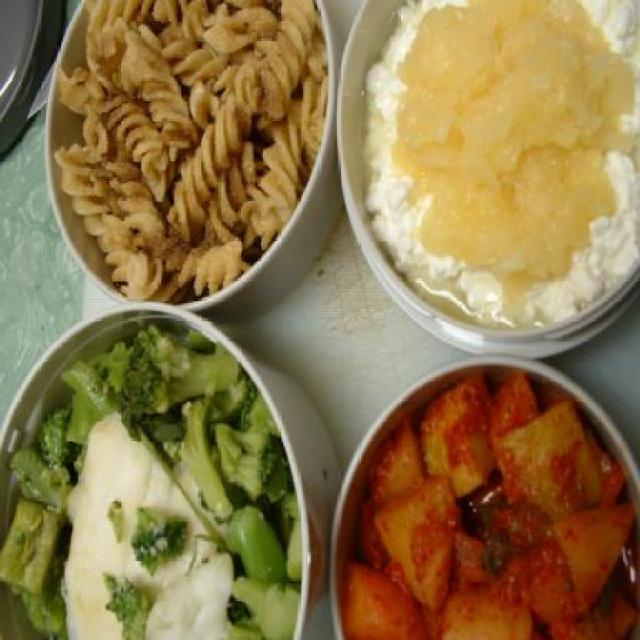Broccoli: (116, 316, 298, 638), (131, 504, 189, 572), (104, 570, 152, 638), (36, 402, 80, 469), (106, 498, 125, 546)
